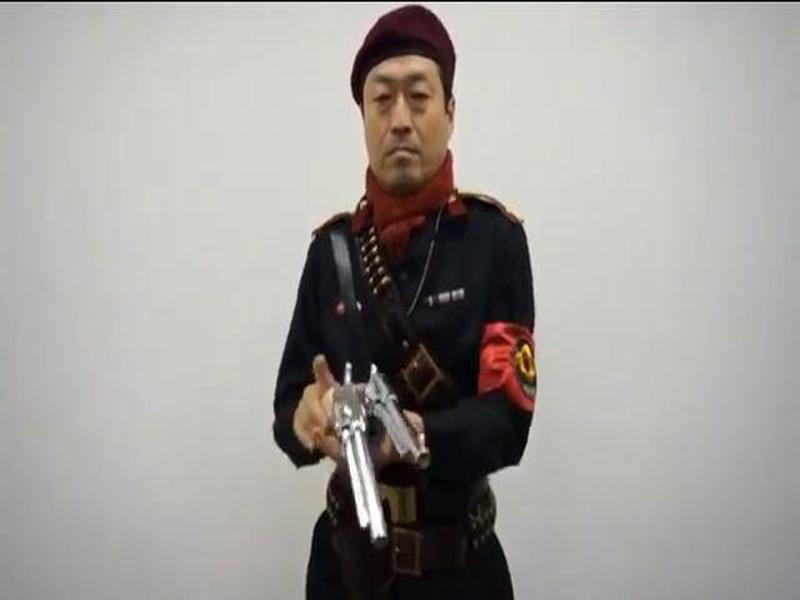Revolver: (294, 347, 390, 558), (362, 363, 439, 486)
